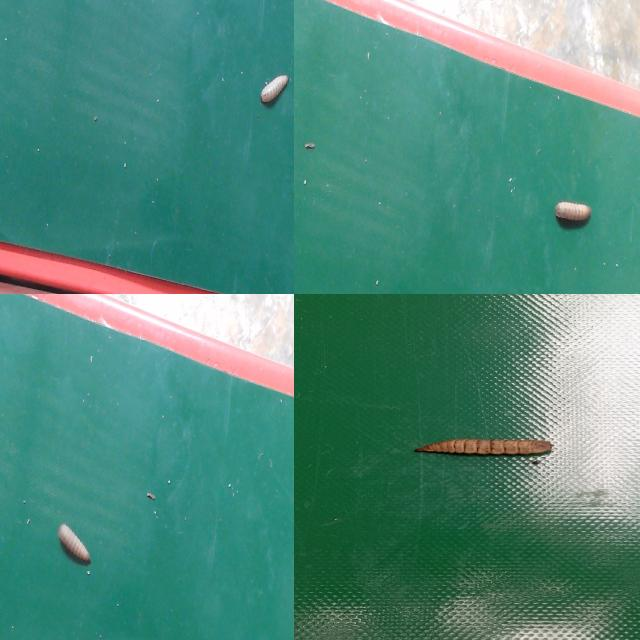Maggot: (413, 439, 553, 460), (59, 525, 92, 570), (554, 201, 592, 231), (259, 76, 290, 109)
